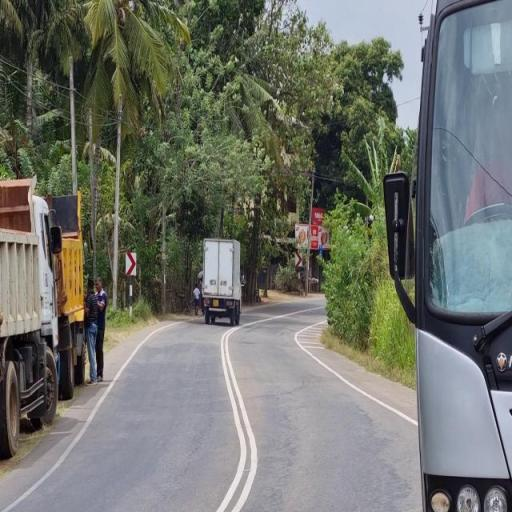double_white_line: (214, 326, 260, 512)
